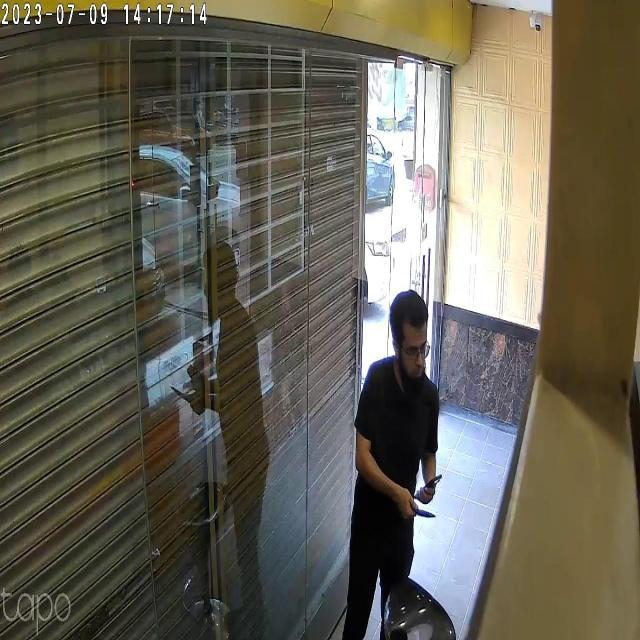Knife: (404, 502, 443, 532)
